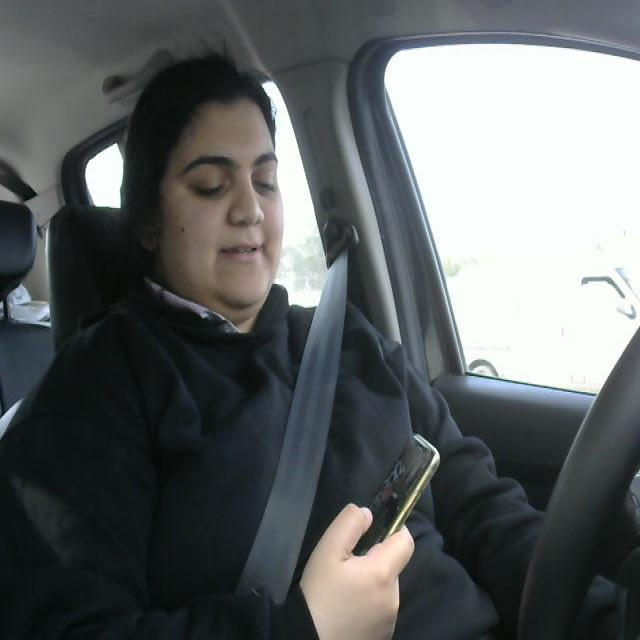mobile use: (358, 427, 442, 559)
